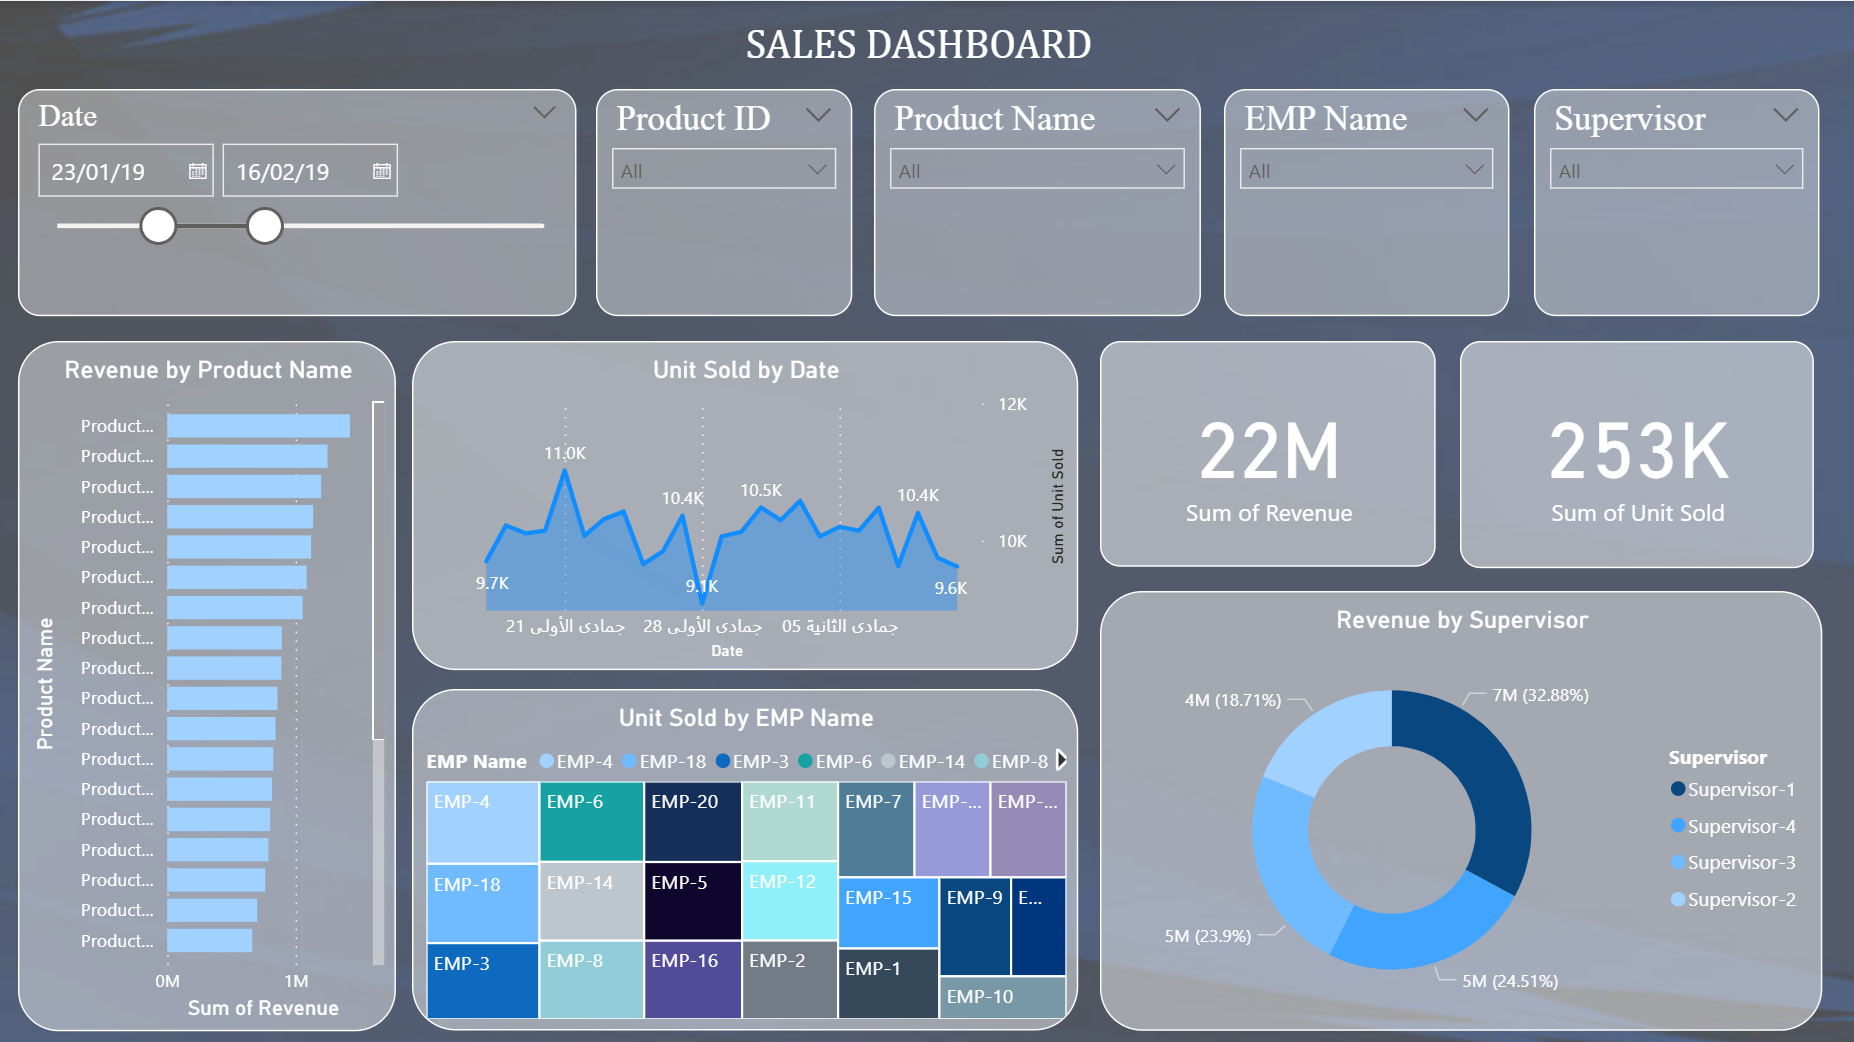

The page's visual inventory and layout, read from the dashboard file:
{"tool":"powerbi","page":{"name":"Page ١","canvas":[1280,720],"ordinal":0},"visuals":[{"type":"slicer","fields":{"Values":["Sales Data.Date"]},"box":[16.8,60.3,383.7,155.8],"z":0},{"type":"slicer","fields":{"Values":["Product Master.Product ID"]},"box":[413.8,60.3,175.9,155.8],"z":1000},{"type":"slicer","fields":{"Values":["Product Master.Product Name"]},"box":[604.8,60.3,224.5,155.8],"z":2000},{"type":"slicer","fields":{"Values":["Emp Master.EMP Name"]},"box":[844.4,60.3,196,155.8],"z":3000},{"type":"slicer","fields":{"Values":["Emp Master.Supervisor"]},"box":[1057.2,60.3,196,155.8],"z":4000},{"type":"card","fields":{"Values":["Sum(Sales Data.Unit Sold)"]},"box":[1006.9,232.9,242.9,155.8],"z":5000},{"type":"card","fields":{"Values":["Sum(Sales Data.Revenue)"]},"box":[759.5,233.5,230.7,155.2],"z":6000},{"type":"donutChart","title":" Revenue by Supervisor","fields":{"Category":["Emp Master.Supervisor"],"Y":["Sum(Sales Data.Revenue)"]},"box":[759.5,405.2,495.8,302.1],"z":7000},{"type":"areaChart","title":" Unit Sold by Date","fields":{"Category":["Sales Data.Date"],"Y2":["Sum(Sales Data.Unit Sold)"]},"box":[286.5,232.9,457.4,226.2],"z":8000},{"type":"treemap","title":" Unit Sold by EMP Name","fields":{"Group":["Emp Master.EMP Name"],"Values":["Sum(Sales Data.Unit Sold)"]},"box":[286.5,472.5,457.4,234.6],"z":9000},{"type":"clusteredBarChart","title":"Revenue by Product Name","fields":{"Category":["Product Master.Product Name"],"Y":["Sum(Sales Data.Revenue)"]},"box":[16.8,232.9,259.7,474.1],"z":10000},{"type":"textbox","title":"SALES   DASHBOARD","box":[16.5,12.4,1237.4,38.5],"z":11000}]}

Visuals, with their boxes in screenshot pixels (x1, y1, x2, y2), scaled from the page's 1280x720 canvas onto the 1854x1042 screenshot:
slicer - Sales Data.Date: locate(24, 87, 580, 313)
slicer - Product Master.Product ID: locate(599, 87, 854, 313)
slicer - Product Master.Product Name: locate(876, 87, 1201, 313)
slicer - Emp Master.EMP Name: locate(1223, 87, 1507, 313)
slicer - Emp Master.Supervisor: locate(1531, 87, 1815, 313)
card - Sum(Sales Data.Unit Sold): locate(1458, 337, 1810, 563)
card - Sum(Sales Data.Revenue): locate(1100, 338, 1434, 563)
" Revenue by Supervisor" donutChart: locate(1100, 586, 1818, 1024)
" Unit Sold by Date" areaChart: locate(415, 337, 1077, 664)
" Unit Sold by EMP Name" treemap: locate(415, 684, 1077, 1023)
"Revenue by Product Name" clusteredBarChart: locate(24, 337, 400, 1023)
"SALES   DASHBOARD" textbox: locate(24, 18, 1816, 74)
